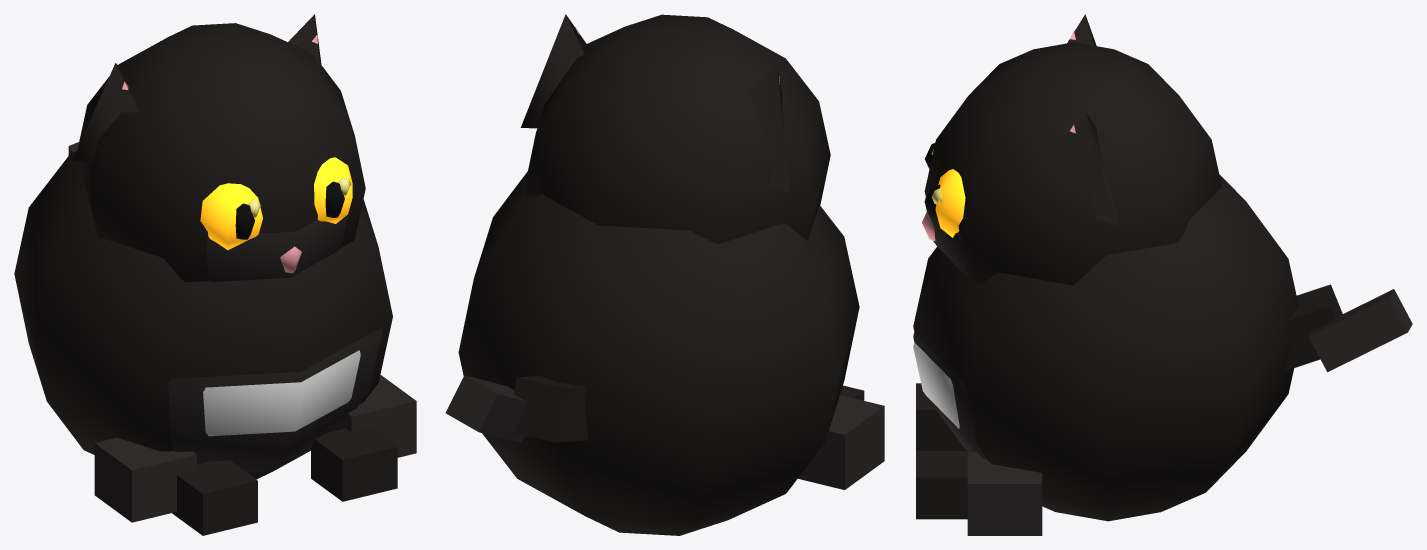
File: Abinyan.glb
The picture shows the model from 3 angles, left to right: view 1: azimuth 30°, elevation 25°; view 2: azimuth 150°, elevation 25°; view 3: azimuth 270°, elevation 25°; orthographic projection. The views are drawn at different scales.
Parts seen in each view (by area): view 1: AbinyanBody; view 2: AbinyanBody; view 3: AbinyanBody.
Boxes of the visible parts, x1,y1,x2,y2 form: AbinyanBody: (14, 14, 416, 535); AbinyanBody: (445, 14, 884, 535); AbinyanBody: (913, 14, 1412, 535).
Bounding box in the file's own units: 0.68 × 0.86 × 0.8706.
